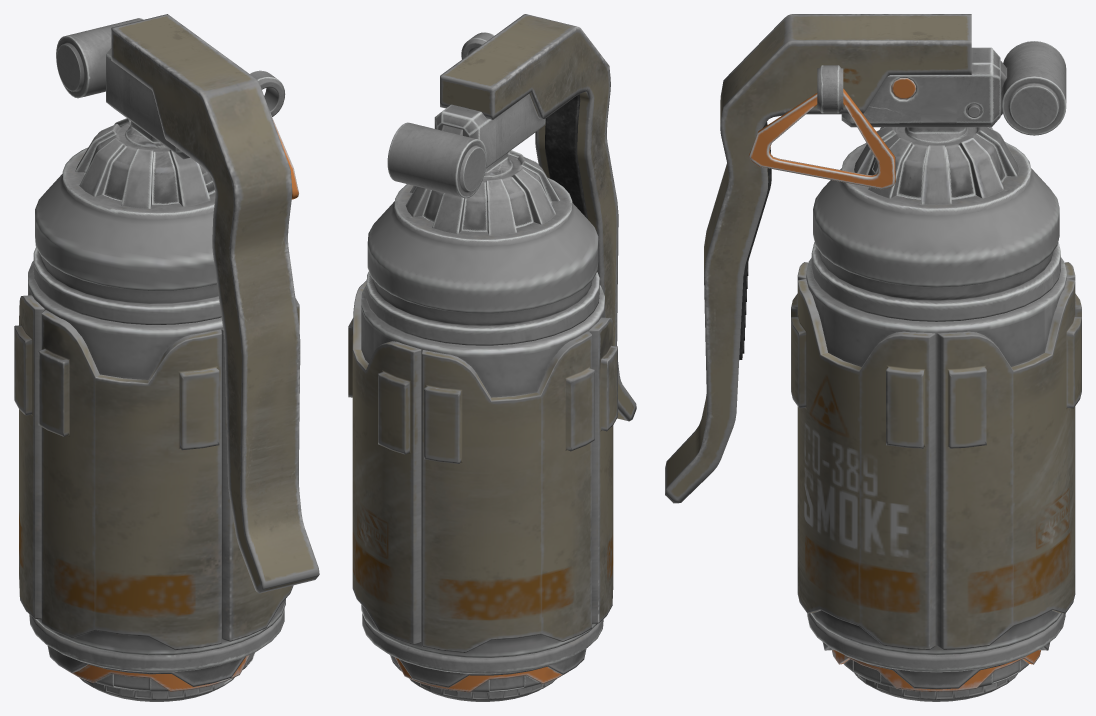
The model's file is texture.fbx.
The picture shows the model from 3 angles, left to right: view 1: azimuth 30°, elevation 25°; view 2: azimuth 150°, elevation 25°; view 3: azimuth 270°, elevation 25°; orthographic projection. The views are drawn at different scales.
Parts seen in each view (by area): view 1: Smoke_Bomb; view 2: Smoke_Bomb; view 3: Smoke_Bomb.
Part boxes in pixels (x1,y1,x2,y2): Smoke_Bomb: [14, 14, 319, 701]; Smoke_Bomb: [348, 14, 636, 701]; Smoke_Bomb: [665, 14, 1081, 701].
Bounding box in the file's own units: 9.15 × 22.42 × 13.13.
Materials: 1 (1 with a texture image).
